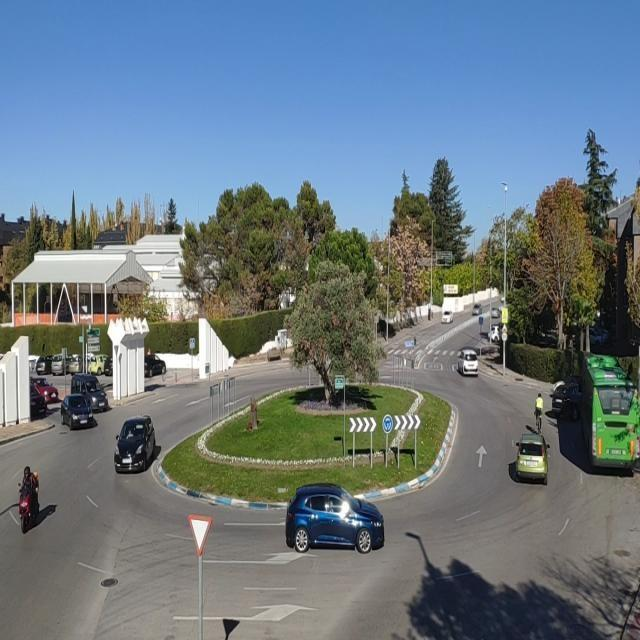Bus: (579, 356, 639, 473)
Car: (286, 482, 386, 554), (113, 416, 158, 472), (516, 430, 548, 482), (550, 380, 580, 420), (60, 393, 92, 426), (33, 378, 59, 402), (458, 349, 481, 376), (144, 354, 167, 376), (89, 354, 109, 376), (443, 310, 454, 324), (470, 305, 482, 316)
Cycle: (18, 484, 39, 534), (535, 406, 544, 432)
Van: (72, 372, 109, 411)
